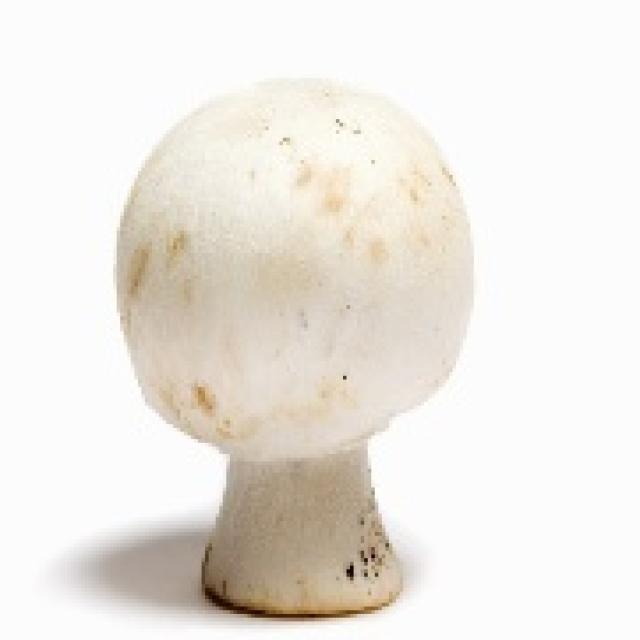mushroom: (113, 60, 477, 625)
